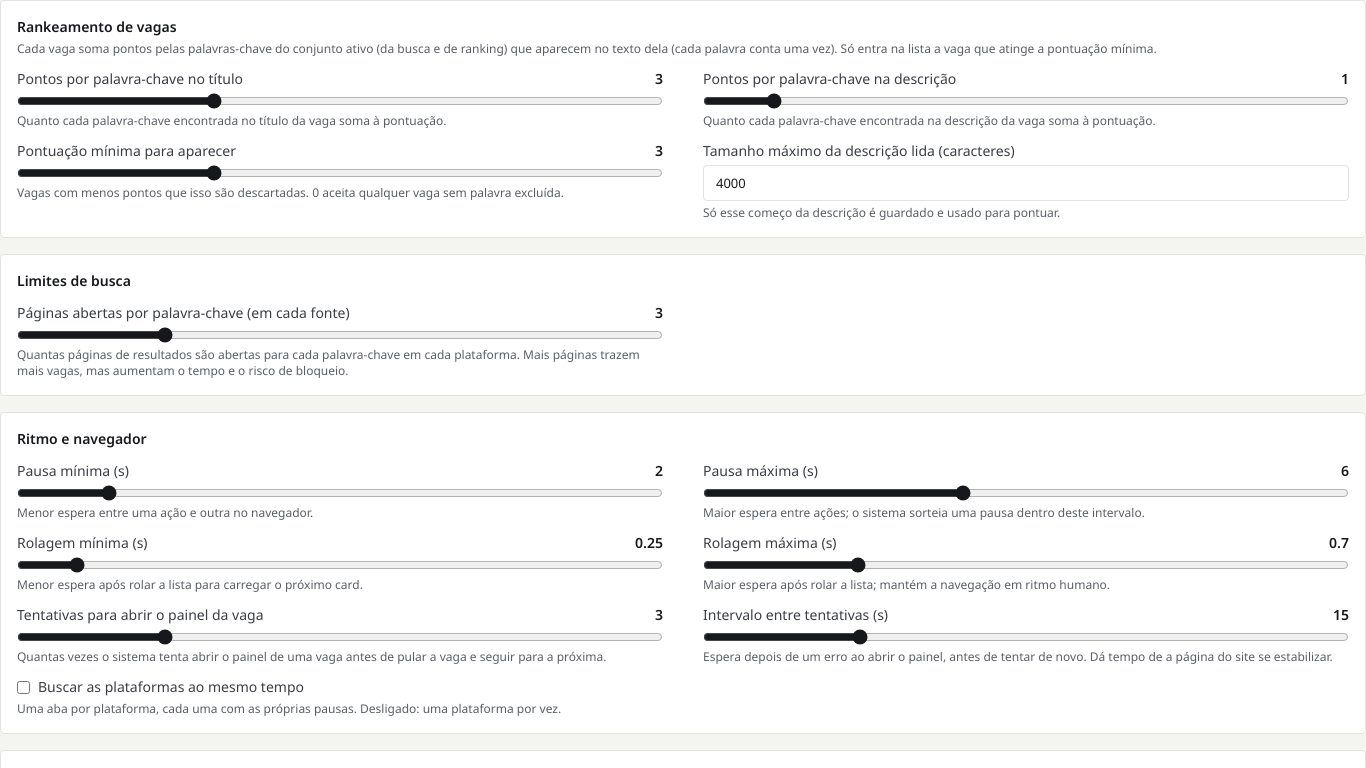
Test case: ConfigPage › ativa a busca em paralelo por plataforma e envia navegador.abas_paralelas
Click the checkbox labelled "Buscar as plataformas ao mesmo tempo": (24, 687) [17,680,30,694]
(page scrolled)
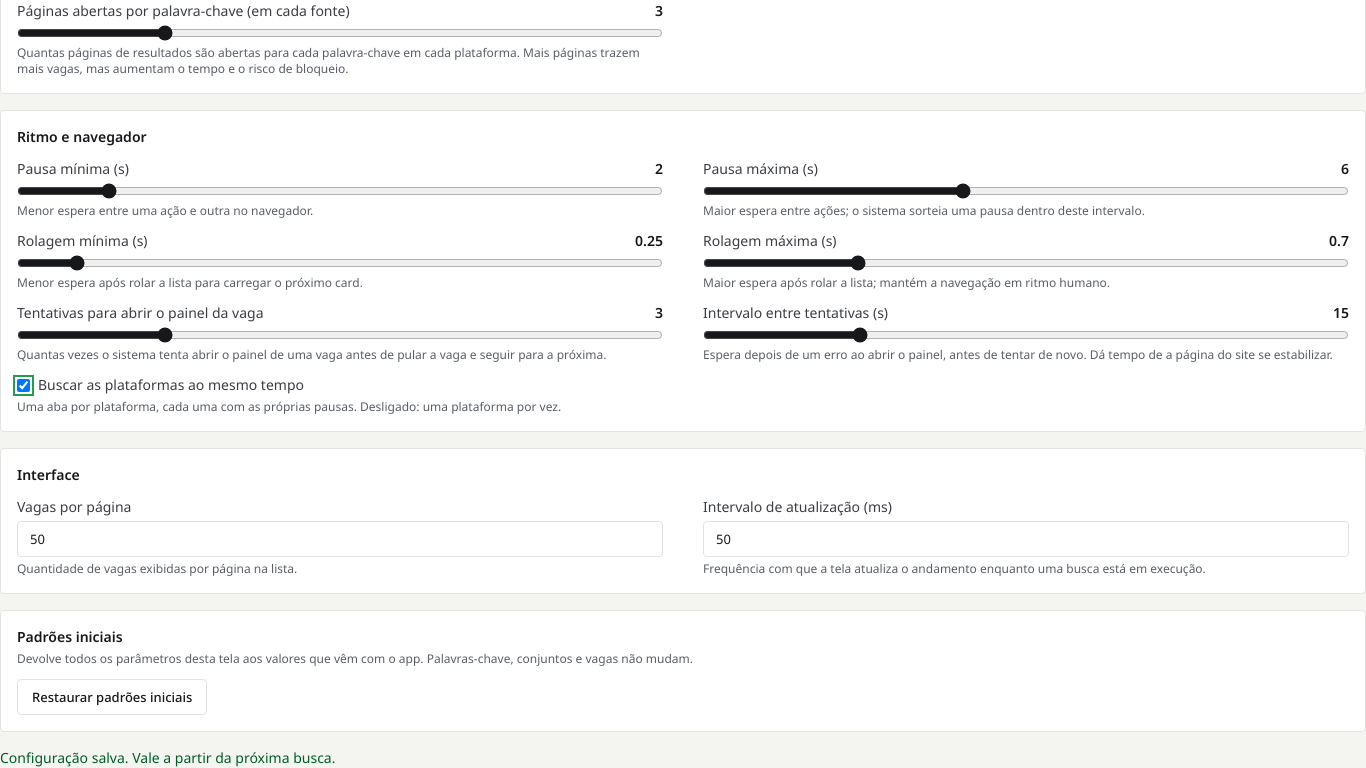
Now the text "Configuração salva. Vale a partir da próxima busca." is shown, box [0,748,336,767]
